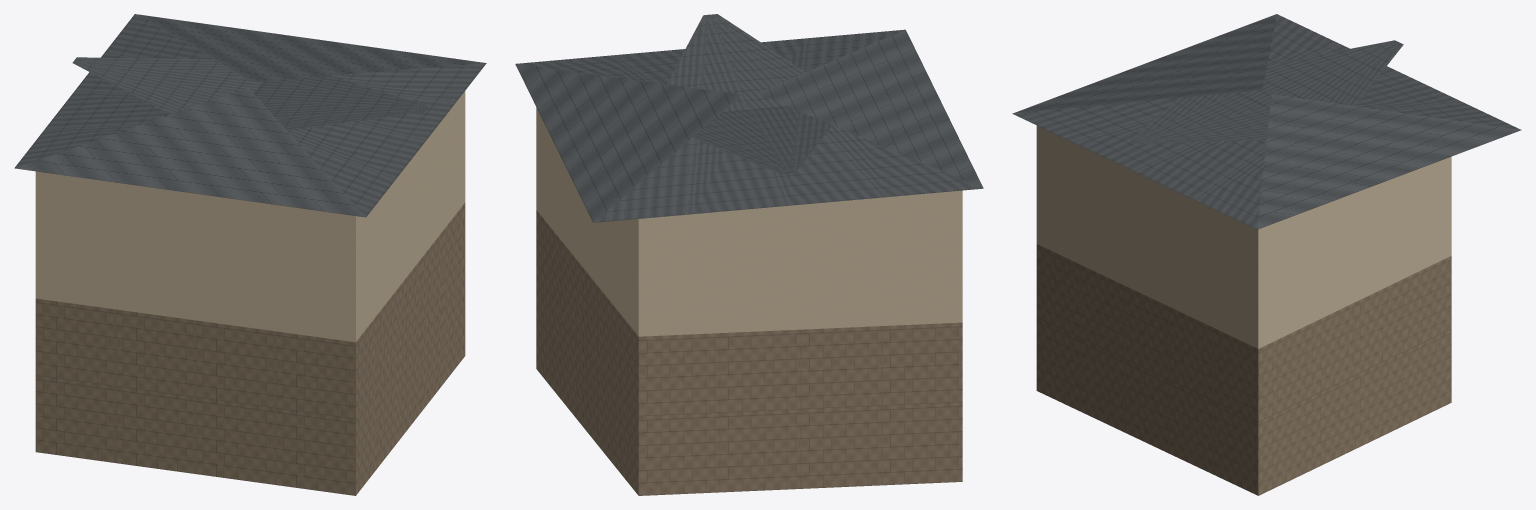
File: bld_c12_41_474.gltf
The picture shows the model from 3 angles, left to right: view 1: azimuth 30°, elevation 25°; view 2: azimuth 150°, elevation 25°; view 3: azimuth 270°, elevation 25°; orthographic projection. The views are drawn at different scales.
Visible parts, largest first — view 1: bld_c12_41_474; view 2: bld_c12_41_474; view 3: bld_c12_41_474.
Part boxes in pixels (<box>): bld_c12_41_474: <box>14,14,486,495</box>; bld_c12_41_474: <box>515,14,983,495</box>; bld_c12_41_474: <box>1012,14,1521,495</box>.
Size of the model in its own units: 15.6 by 10.3 by 15.57.
Materials: 3 (3 with a texture image).
